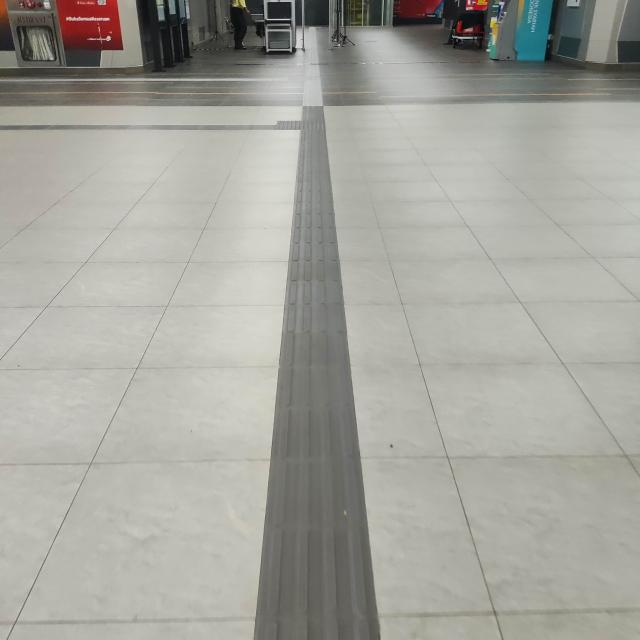lurus: (271, 133, 373, 640)
